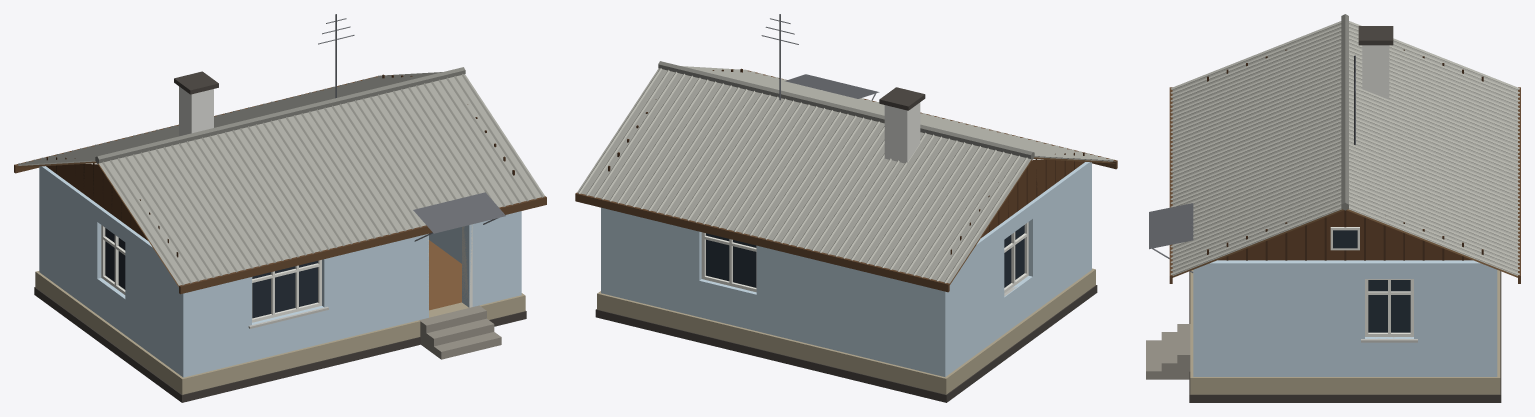
The model's file is KG_House_Blue.obj.
The picture shows the model from 3 angles, left to right: view 1: azimuth 30°, elevation 25°; view 2: azimuth 150°, elevation 25°; view 3: azimuth 270°, elevation 25°; orthographic projection. The views are drawn at different scales.
Visible parts, largest first — view 1: KG_House_Blue; view 2: KG_House_Blue; view 3: KG_House_Blue.
Part boxes in pixels (<box>): KG_House_Blue: <box>14,14,546,402</box>; KG_House_Blue: <box>575,14,1117,402</box>; KG_House_Blue: <box>1146,14,1520,402</box>.
Size of the model in its own units: 9.1 by 6.51 by 7.64.
